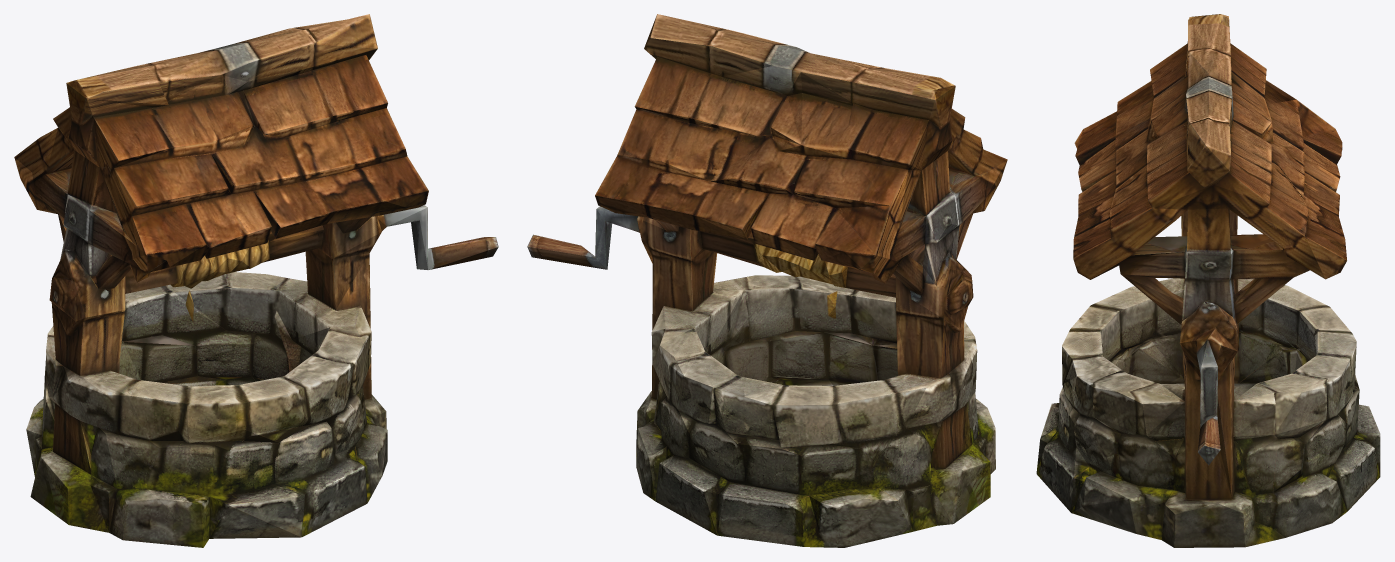
File: Meshy_AI_Crank_Driven_Stone_We_0724184902_texture.fbx
3 renders of one model, left to right at view 1: azimuth 30°, elevation 25°; view 2: azimuth 150°, elevation 25°; view 3: azimuth 270°, elevation 25°, orthographic. The views are drawn at different scales.
Parts seen in each view (by area): view 1: mesh_node; view 2: mesh_node; view 3: mesh_node.
Part boxes in pixels (x1,y1,x2,y2): mesh_node: (14, 14, 498, 547); mesh_node: (527, 14, 1007, 547); mesh_node: (1036, 14, 1380, 547).
Bounding box in the file's own units: 189 × 171 × 133.
Materials: 1 (1 with a texture image).
